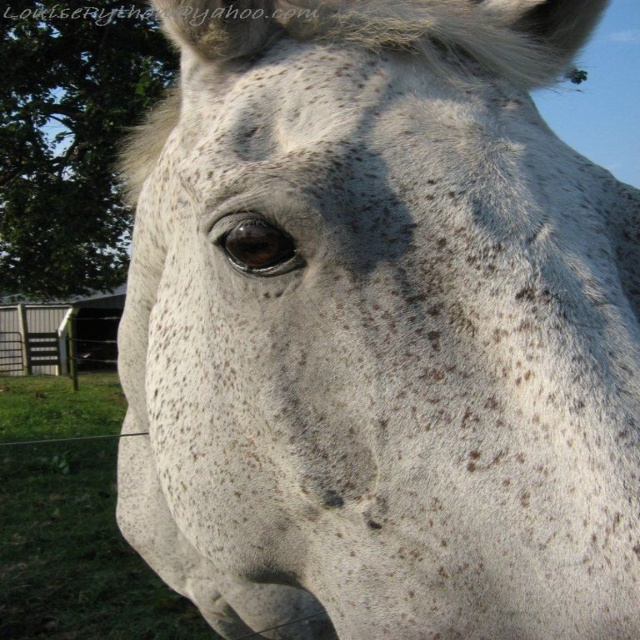Mule: (76, 0, 640, 625)
